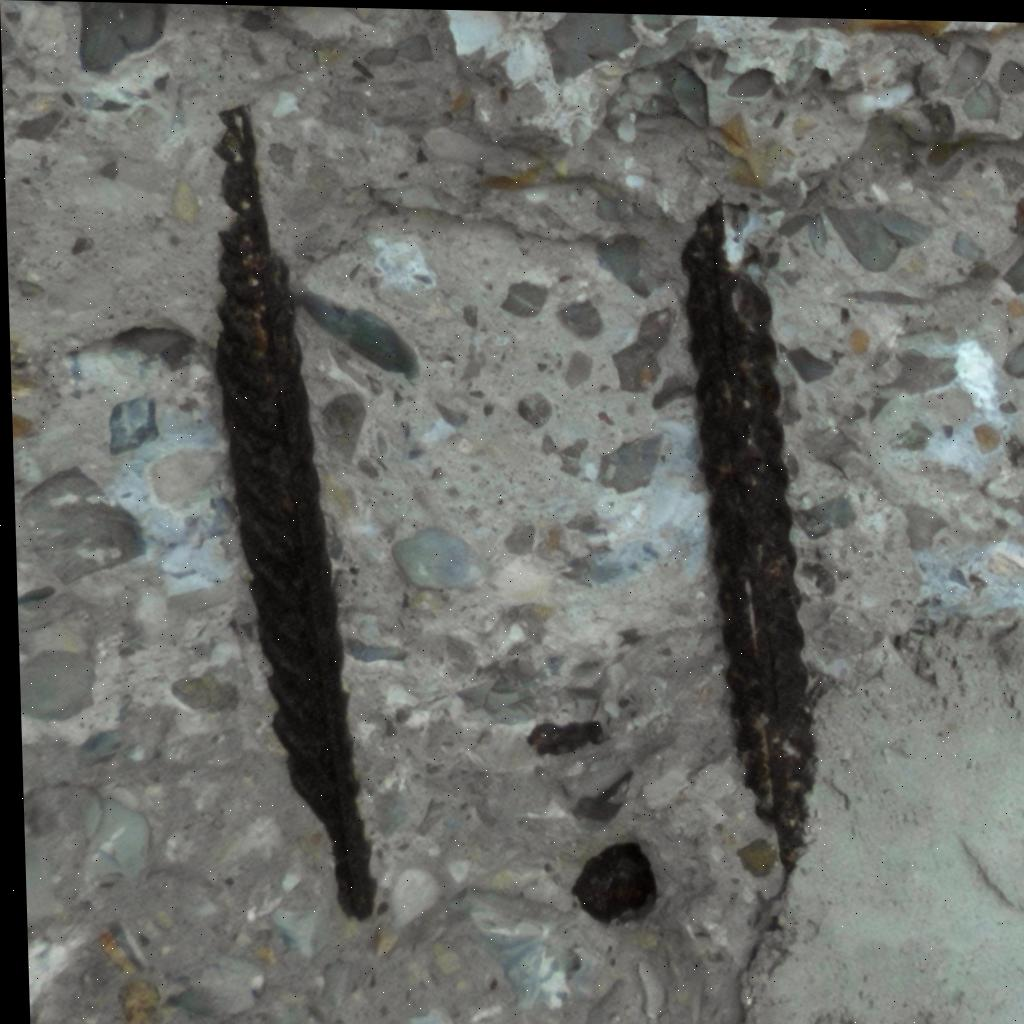exposed_rebar: (215, 107, 376, 918), (681, 202, 816, 872)
spalling: (1, 0, 1024, 1024)
